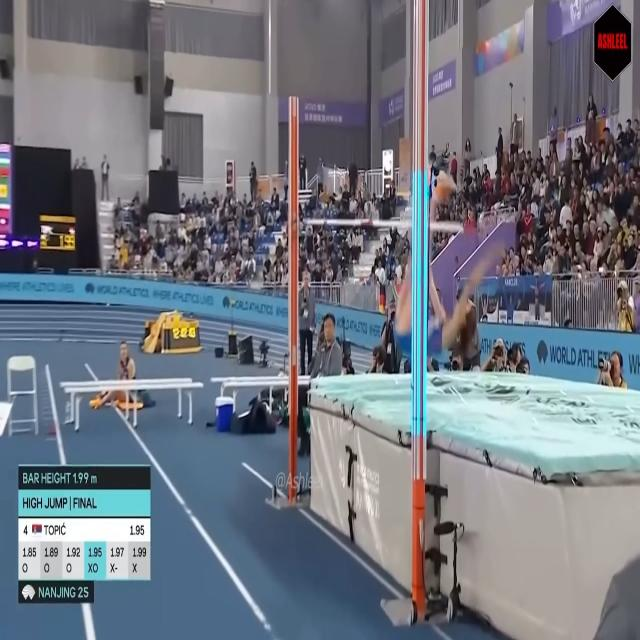land: (395, 170, 501, 357)
